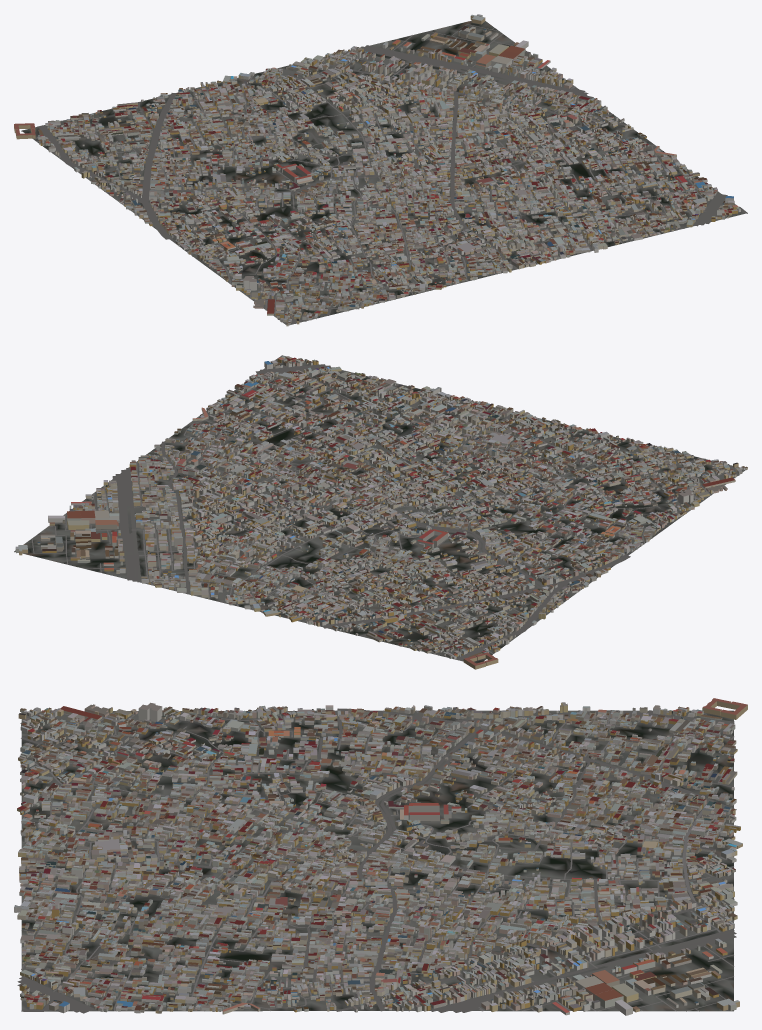
3 views of the same model, one above another, from view 1: azimuth 30°, elevation 25°; view 2: azimuth 150°, elevation 25°; view 3: azimuth 270°, elevation 25° (orthographic). The views are drawn at different scales.
Parts seen in each view (by area): view 1: buildings, ground, roads; view 2: buildings, ground, roads; view 3: buildings, ground, roads.
Boxes of the visible parts, x1=… form: buildings: x1=14, y1=14, x2=740, y2=326; ground: x1=21, y1=20, x2=747, y2=325; roads: x1=33, y1=24, x2=747, y2=323; buildings: x1=15, y1=356, x2=747, y2=669; ground: x1=14, y1=356, x2=746, y2=663; roads: x1=27, y1=355, x2=739, y2=660; buildings: x1=14, y1=698, x2=747, y2=1015; ground: x1=21, y1=710, x2=733, y2=1011; roads: x1=17, y1=708, x2=736, y2=1013.
Bounding box in the file's own units: 1457 × 31.29 × 1443.
